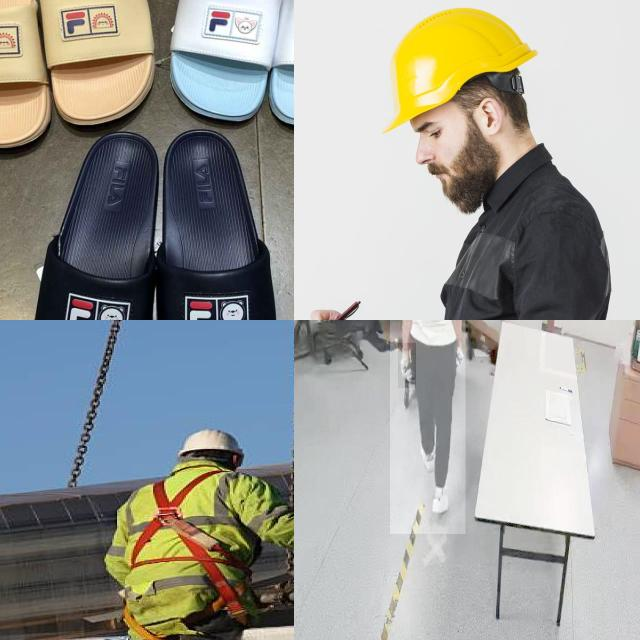Harness: (118, 465, 251, 640)
No_Ear-Protection: (384, 7, 549, 231)
Sandals: (1, 117, 294, 320), (0, 0, 161, 165), (165, 0, 294, 148)
hand_glove: (398, 343, 416, 389), (454, 336, 468, 368)
person: (390, 320, 466, 535)
shoes: (429, 481, 452, 522), (417, 433, 438, 477)
